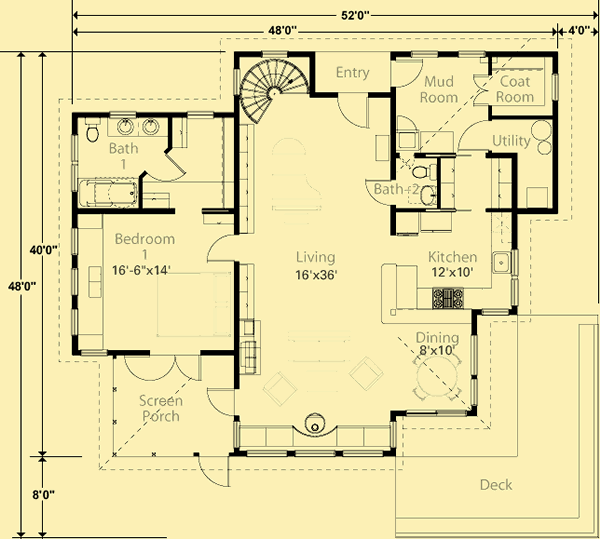door: (120, 354, 203, 382), (334, 92, 370, 132), (143, 154, 188, 185), (454, 119, 493, 154), (195, 454, 232, 490), (387, 59, 426, 87), (203, 233, 236, 266), (204, 386, 237, 418), (362, 178, 394, 208), (469, 70, 492, 107), (395, 112, 420, 134)
large_sink: (80, 118, 106, 147), (410, 162, 437, 183)
round_table: (412, 352, 463, 402)
sink: (489, 250, 513, 276)
small_sink: (106, 118, 169, 138), (410, 183, 439, 208)
small_sofa: (346, 355, 384, 395), (260, 370, 296, 408)
stairs: (240, 57, 310, 127)
tub: (78, 179, 137, 210)
window: (244, 449, 386, 461), (68, 226, 82, 337), (466, 333, 481, 409), (401, 406, 471, 420), (68, 132, 80, 191), (406, 46, 438, 60), (76, 347, 110, 359), (510, 276, 522, 306), (550, 73, 560, 106), (184, 111, 216, 121), (457, 49, 487, 58), (480, 307, 509, 316)
